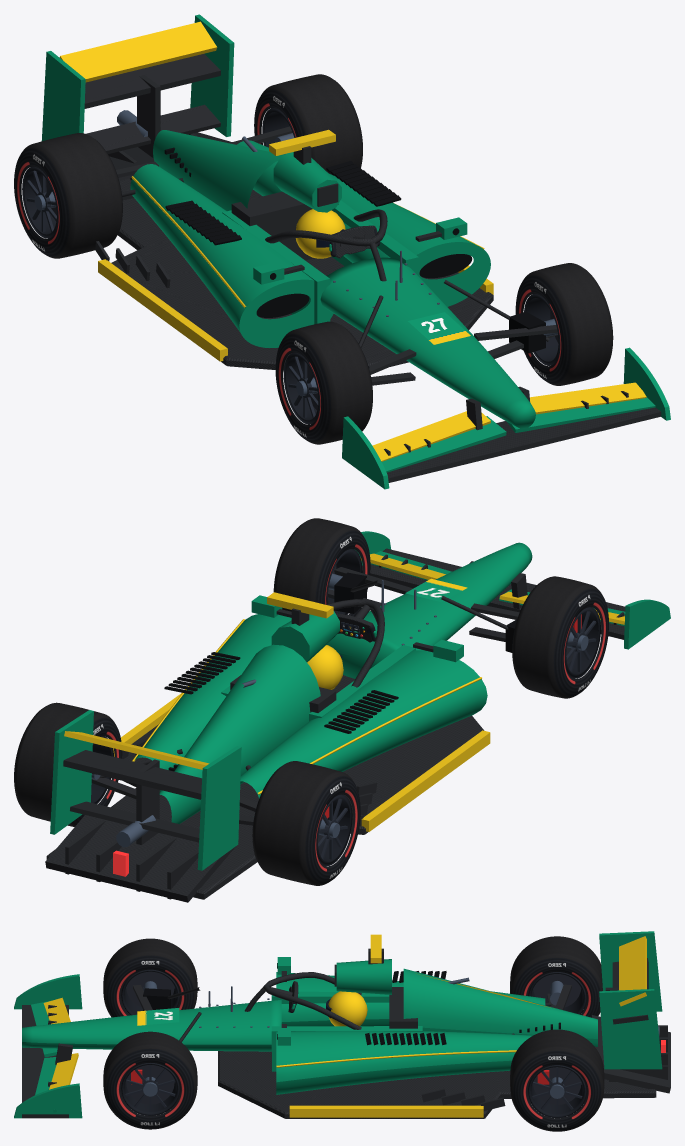
File: carro-piloto-fase7.glb
3 renders of one model, top to bottom at view 1: azimuth 30°, elevation 25°; view 2: azimuth 150°, elevation 25°; view 3: azimuth 270°, elevation 25°, orthographic. The views are drawn at different scales.
Parts seen in each view (by area): view 1: pilot-sculpted-bodywork, object 5, object 1, object 91, object 70, object 77, object 84, object 53, object 44, pilot-intakes-and-vents, object 52, object 54 (+30 smaller); view 2: pilot-sculpted-bodywork, object 5, object 1, object 4, object 91, object 77, object 84, object 54, pilot-intakes-and-vents, object 70, object 55, object 52 (+24 smaller); view 3: pilot-sculpted-bodywork, object 1, object 5, object 55, object 71, object 85, object 84, object 3, object 91, object 70, object 78, object 77 (+32 smaller).
Boxes of the visible parts, x1,y1,x2,y2 form: pilot-sculpted-bodywork: (130, 130, 490, 347); object 5: (320, 257, 535, 428); object 1: (111, 178, 493, 370); object 91: (21, 133, 122, 258); object 70: (523, 263, 612, 385); object 77: (282, 321, 372, 444); object 84: (261, 74, 362, 175); object 53: (59, 21, 217, 82); object 44: (387, 407, 661, 482); pilot-intakes-and-vents: (164, 147, 545, 368); object 52: (84, 54, 220, 108); object 54: (41, 51, 85, 141); pilot-sculpted-bodywork: (132, 614, 487, 823); object 5: (327, 542, 532, 678); object 1: (46, 675, 484, 899); object 4: (45, 815, 235, 902); object 91: (252, 761, 353, 885); object 77: (512, 576, 601, 698); object 84: (14, 702, 114, 826); object 54: (197, 746, 241, 870); pilot-intakes-and-vents: (164, 572, 516, 771); object 70: (274, 518, 363, 615); object 55: (50, 710, 93, 834); object 52: (63, 750, 201, 799); pilot-sculpted-bodywork: (276, 968, 597, 1094); object 1: (218, 1051, 656, 1118); object 5: (22, 1000, 281, 1051); object 55: (599, 989, 662, 1069); object 71: (106, 1048, 194, 1128); object 85: (513, 1051, 601, 1130); object 84: (510, 1029, 604, 1131); object 3: (289, 1105, 483, 1117); object 91: (510, 936, 602, 1015); object 70: (103, 1031, 197, 1129); object 78: (106, 955, 194, 1017); object 77: (103, 938, 197, 1017).
Size of the model in its own units: 2.1 by 1.1 by 5.01.
Materials: 30 (5 with a texture image).
